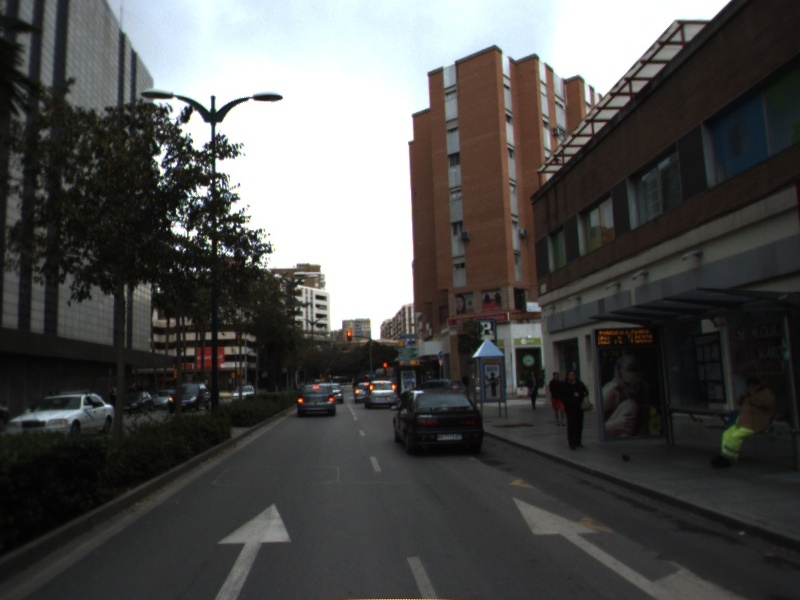STRAIGHT: (213, 501, 293, 600)
STRAIGHT_RIGHT: (510, 495, 748, 600)
